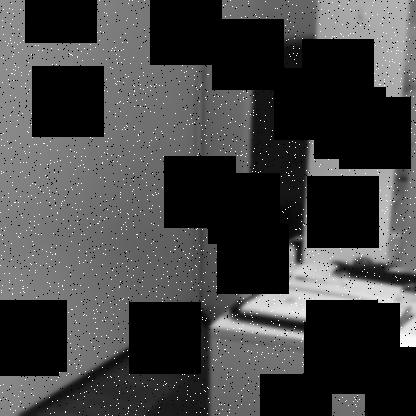Porte: (190, 15, 316, 338)
